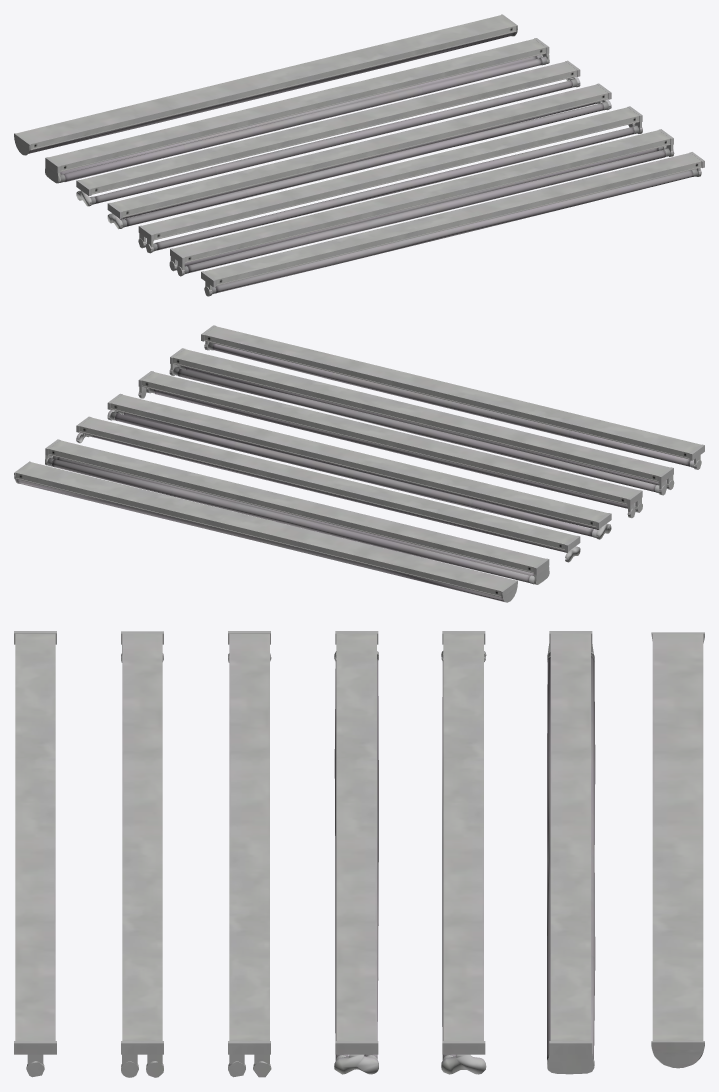
The model's file is mounted_fluorescent_lights.glb.
The picture shows the model from 3 angles, top to bottom: view 1: azimuth 30°, elevation 25°; view 2: azimuth 150°, elevation 25°; view 3: azimuth 270°, elevation 25°; orthographic projection. The views are drawn at different scales.
Parts seen in each view (by area): view 1: mounted_fluorescent_lights_b, mounted_fluorescent_lights_f, mounted_fluorescent_lights_d, mounted_fluorescent_lights_c, mounted_fluorescent_lights_e, mounted_fluorescent_lights_a, mounted_fluorescent_lights_g; view 2: mounted_fluorescent_lights_f, mounted_fluorescent_lights_b, mounted_fluorescent_lights_d, mounted_fluorescent_lights_a, mounted_fluorescent_lights_g, mounted_fluorescent_lights_c, mounted_fluorescent_lights_e; view 3: mounted_fluorescent_lights_g, mounted_fluorescent_lights_f, mounted_fluorescent_lights_d, mounted_fluorescent_lights_e, mounted_fluorescent_lights_b, mounted_fluorescent_lights_c, mounted_fluorescent_lights_a.
Part boxes in pixels (x1,y1,x2,y2): mounted_fluorescent_lights_b: (169,129,674,276); mounted_fluorescent_lights_f: (45,38,549,183); mounted_fluorescent_lights_d: (107,83,611,229); mounted_fluorescent_lights_c: (138,106,642,253); mounted_fluorescent_lights_e: (76,60,580,206); mounted_fluorescent_lights_a: (201,152,704,296); mounted_fluorescent_lights_g: (14,14,517,155); mounted_fluorescent_lights_f: (45,439,549,584); mounted_fluorescent_lights_b: (169,348,674,495); mounted_fluorescent_lights_d: (107,393,611,539); mounted_fluorescent_lights_a: (201,325,704,469); mounted_fluorescent_lights_g: (14,461,517,602); mounted_fluorescent_lights_c: (138,371,642,518); mounted_fluorescent_lights_e: (76,416,580,562); mounted_fluorescent_lights_g: (651,632,704,1068); mounted_fluorescent_lights_f: (547,631,595,1074); mounted_fluorescent_lights_d: (334,631,378,1074); mounted_fluorescent_lights_e: (441,631,486,1074); mounted_fluorescent_lights_b: (121,631,163,1077); mounted_fluorescent_lights_c: (228,631,271,1077); mounted_fluorescent_lights_a: (14,631,56,1077).
Size of the model in its own units: 0.9122 by 0.0354 by 0.6454.
Materials: 2 (2 with a texture image).
